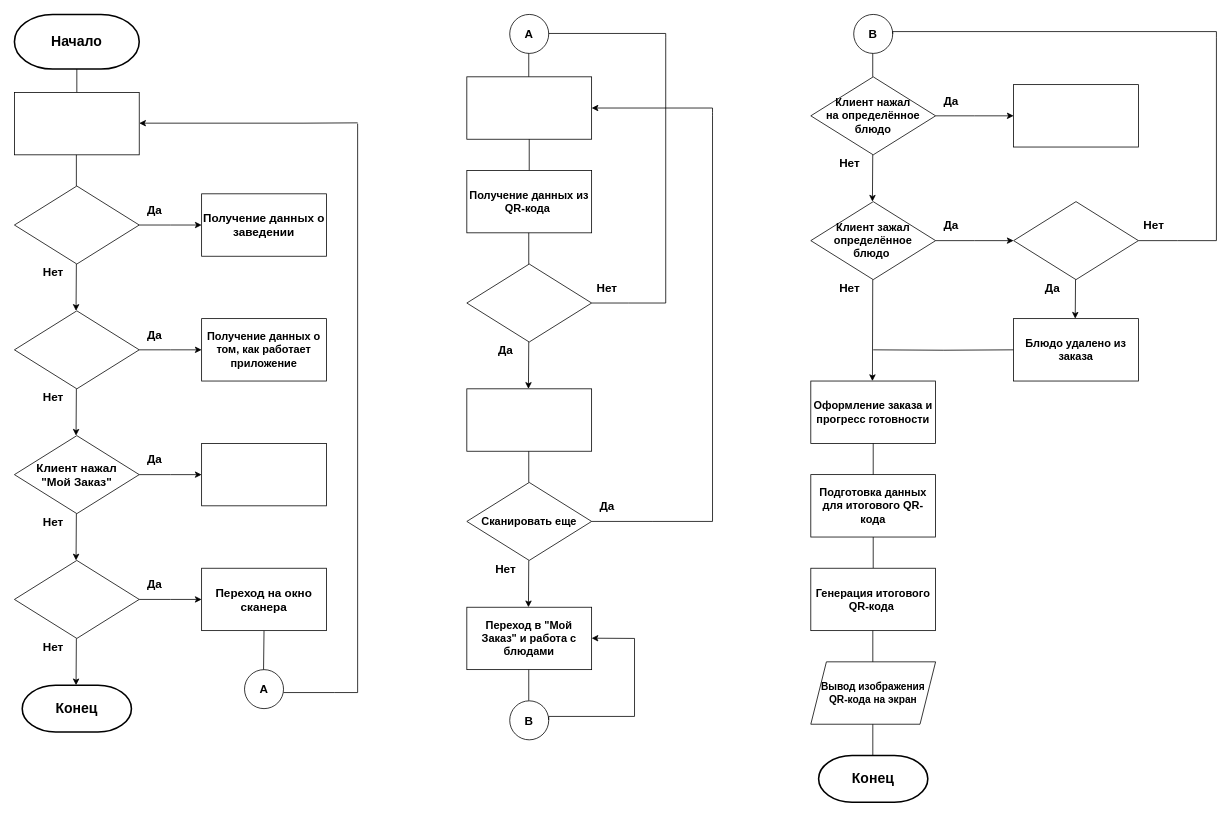
Some shapes in this 1231 by 816 pixel diagram are drawn without their labels. The centre of each missing label's shape, as x and y in pixels:
Главное меню: point (76, 123)
Данные блюда записаны в массив и переданы в окно "Мой Заказ": point (529, 419)
Добавить блюдо в заказ: point (529, 302)
Клиент нажал "Инструкция": point (76, 349)
Клиент нажал "О нас": point (76, 224)
Клиент нажал "Сканировать": point (76, 599)
Получение данных о заказе: point (263, 474)
Получение подробных данных о блюде: point (1075, 115)
Сканирование QR-кода блюд: point (529, 107)
Удалить блюдо из заказа: point (1075, 240)
